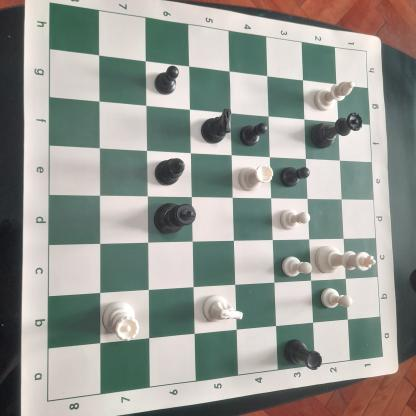black-bishop: (152, 157, 186, 190)
black-king: (152, 197, 197, 238)
black-knight: (199, 105, 234, 149)
black-pawn: (152, 62, 183, 98), (278, 160, 314, 190), (238, 117, 269, 150)
black-queen: (308, 112, 365, 152)
black-rook: (280, 334, 324, 371)
white-bishop: (310, 79, 356, 114)
white-king: (314, 242, 379, 279)
white-knight: (199, 290, 246, 328)
white-pawn: (318, 285, 354, 313), (280, 254, 314, 283), (279, 206, 312, 233)
white-queen: (100, 296, 142, 342)
white-rook: (236, 159, 274, 194)
